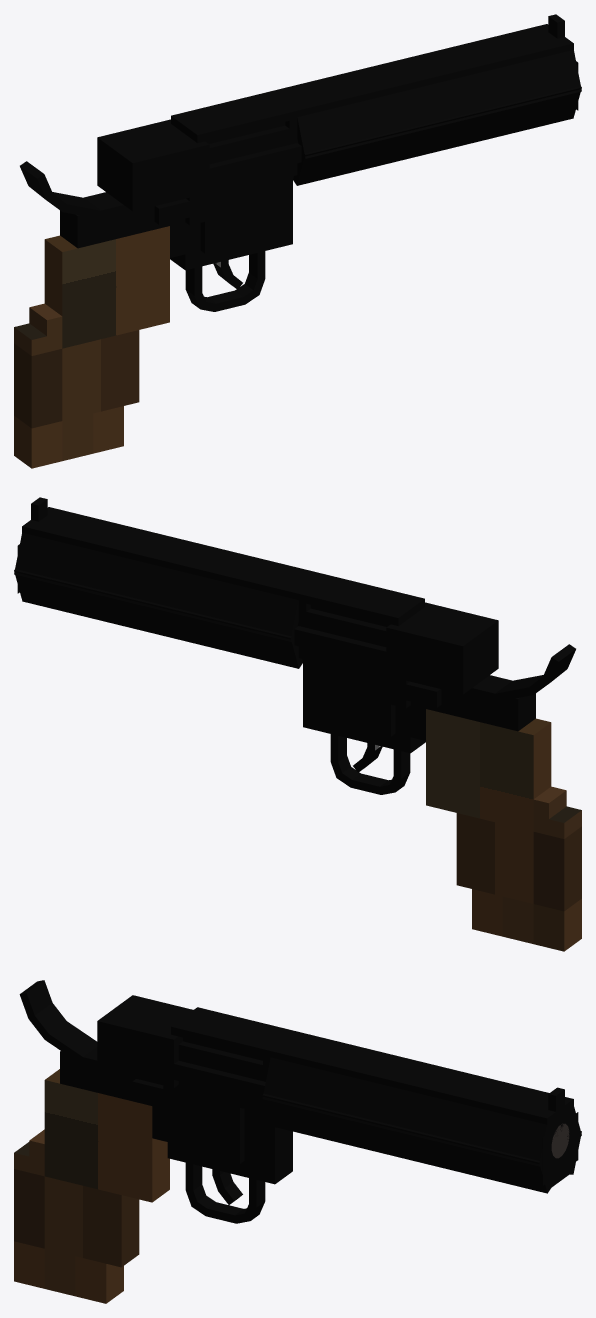
3 renders of one model, top to bottom at view 1: azimuth 30°, elevation 25°; view 2: azimuth 150°, elevation 25°; view 3: azimuth 330°, elevation 25°, orthographic.
Parts seen in each view (by area): view 1: cube.052, cube.053, cube.041, cube.045, cube.043, cube.006, cube.072, cube.066, cube.073, cube.074, cube.069, cube.042 (+18 smaller); view 2: cube.052, cube.053, cube.039, cube.037, cube.035, cube.006, cube.072, cube.066, cube.073, cube.074, cube.069, cube.040 (+18 smaller); view 3: cube.052, cube.053, cube.068, cube.043, cube.045, cube.041, cube.006, cube.073, cube.072, cube.069, cube.074, cube.067 (+23 smaller).
Part boxes in pixels (x1=…): cube.052: x1=44, y1=226, x2=169, y2=348; cube.053: x1=97, y1=119, x2=209, y2=211; cube.041: x1=297, y1=95, x2=397, y2=158; cube.045: x1=389, y1=72, x2=489, y2=136; cube.043: x1=481, y1=50, x2=581, y2=113; cube.006: x1=200, y1=182, x2=266, y2=253; cube.072: x1=171, y1=91, x2=297, y2=142; cube.066: x1=14, y1=343, x2=62, y2=428; cube.073: x1=263, y1=69, x2=389, y2=176; cube.074: x1=447, y1=24, x2=573, y2=71; cube.069: x1=363, y1=47, x2=481, y2=94; cube.042: x1=293, y1=131, x2=397, y2=185; cube.052: x1=426, y1=709, x2=551, y2=831; cube.053: x1=386, y1=602, x2=498, y2=694; cube.039: x1=198, y1=578, x2=298, y2=641; cube.037: x1=106, y1=555, x2=206, y2=619; cube.035: x1=14, y1=533, x2=114, y2=596; cube.006: x1=329, y1=665, x2=395, y2=736; cube.072: x1=298, y1=574, x2=424, y2=625; cube.066: x1=533, y1=826, x2=581, y2=911; cube.073: x1=206, y1=554, x2=332, y2=657; cube.074: x1=22, y1=507, x2=148, y2=556; cube.069: x1=114, y1=530, x2=240, y2=579; cube.040: x1=198, y1=614, x2=302, y2=668; cube.052: x1=44, y1=1069, x2=169, y2=1202; cube.053: x1=97, y1=995, x2=192, y2=1087; cube.068: x1=83, y1=1186, x2=139, y2=1267; cube.043: x1=447, y1=1102, x2=550, y2=1166; cube.045: x1=354, y1=1080, x2=454, y2=1143; cube.041: x1=262, y1=1057, x2=362, y2=1121; cube.006: x1=178, y1=1093, x2=244, y2=1163; cube.073: x1=263, y1=1029, x2=388, y2=1113; cube.072: x1=171, y1=1007, x2=288, y2=1058; cube.069: x1=355, y1=1052, x2=481, y2=1102; cube.074: x1=447, y1=1075, x2=573, y2=1124; cube.067: x1=44, y1=1176, x2=82, y2=1257.
Size of the model in its own units: 109 by 60.94 by 15.12.
